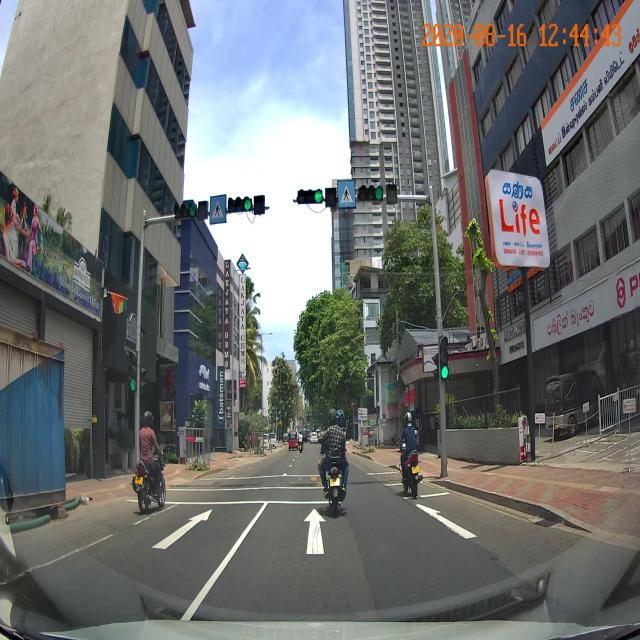forward: (99, 496, 269, 574)
